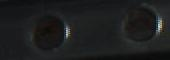joints: (23, 9, 72, 53), (116, 1, 164, 44)
